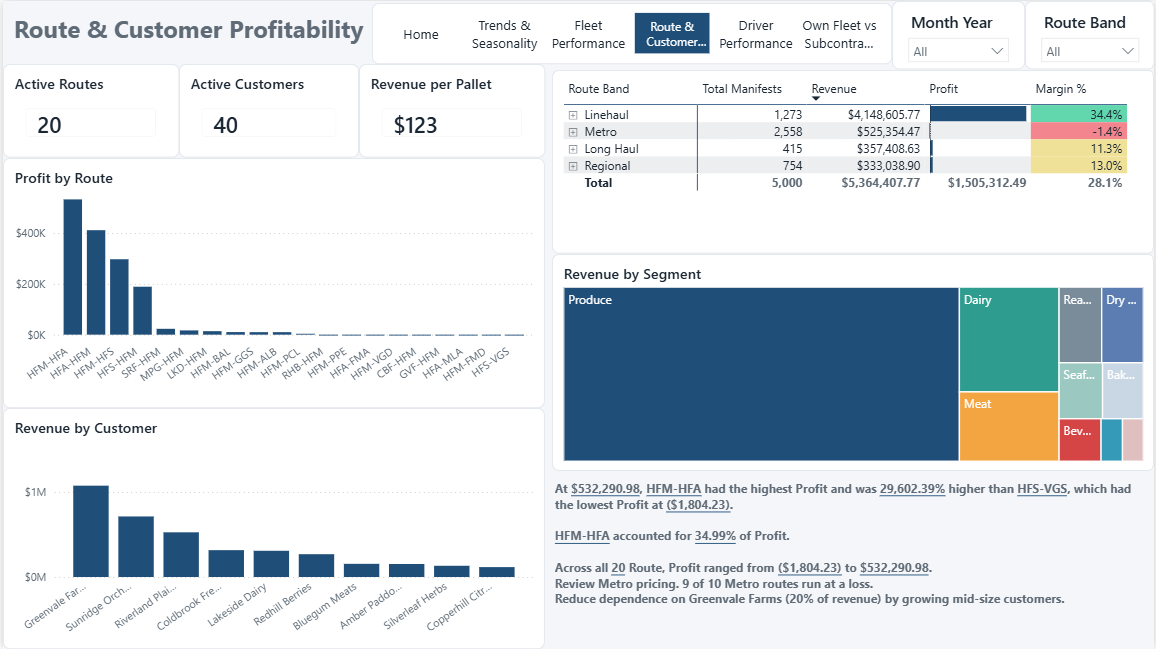

This screenshot's page, from the dashboard's own definition file:
{"tool":"powerbi","page":{"name":"Route & Customer Profitability","canvas":[1280,720],"ordinal":3},"visuals":[{"type":"cardVisual","title":"Active Routes","fields":{"Data":["_Measure.Active Routes"]},"box":[0,70,195.6,104.4],"z":0},{"type":"cardVisual","title":"Active Customers","fields":{"Data":["_Measure.Active Customers"]},"box":[195.6,70,200,104.4],"z":1000},{"type":"cardVisual","title":"Revenue per Pallet","fields":{"Data":["_Measure.Revenue per Pallet"]},"box":[395.6,70,206.7,104.4],"z":2000},{"type":"clusteredColumnChart","fields":{"Category":["dim_route.Route"],"Y":["_Measure.Profit"]},"box":[0,174.4,602.2,277.8],"z":3000},{"type":"pivotTable","fields":{"Rows":["fact_manifest.Route Band","fact_manifest.Route"],"Values":["_Measure.Total Manifests","_Measure.Revenue","_Measure.Profit","_Measure.Margin %"]},"box":[610,76.7,670,204.4],"z":4000},{"type":"clusteredColumnChart","title":"Revenue by Customer ","fields":{"Category":["dim_customer.Customer Name"],"Y":["_Measure.Leg Revenue"]},"box":[0,452.2,602.2,267.8],"z":5000},{"type":"slicer","fields":{"Values":["dim_route.Route Band"]},"box":[1135,0,145,76.2],"z":6000},{"type":"slicer","fields":{"Values":["dim_date.Month Year"]},"box":[987.5,0,147.5,76.2],"z":8000},{"type":"textbox","box":[0,2.2,602.2,67.8],"z":9000},{"type":"treemap","title":"Revenue by Segment","fields":{"Group":["dim_customer.Segment"],"Values":["_Measure.Leg Revenue"]},"box":[610,281.2,670,241.2],"z":11000},{"type":"textbox","box":[601.2,522.5,678.8,197.5],"z":11001},{"type":"pageNavigator","box":[410,2.5,577.5,67.5],"z":11002}]}

Visuals, with their boxes in screenshot pixels (x1, y1, x2, y2), scaled from the page's 1280x720 canvas onto the 1156x649 screenshot:
"Active Routes" cardVisual: bbox(0, 63, 177, 157)
"Active Customers" cardVisual: bbox(177, 63, 357, 157)
"Revenue per Pallet" cardVisual: bbox(357, 63, 544, 157)
clusteredColumnChart - dim_route.Route x _Measure.Profit: bbox(0, 157, 544, 408)
pivotTable - fact_manifest.Route Band x fact_manifest.Route: bbox(551, 69, 1155, 253)
"Revenue by Customer " clusteredColumnChart: bbox(0, 408, 544, 648)
slicer - dim_route.Route Band: bbox(1025, 0, 1155, 69)
slicer - dim_date.Month Year: bbox(892, 0, 1025, 69)
textbox: bbox(0, 2, 544, 63)
"Revenue by Segment" treemap: bbox(551, 253, 1155, 471)
textbox: bbox(543, 471, 1155, 648)
pageNavigator: bbox(370, 2, 892, 63)
